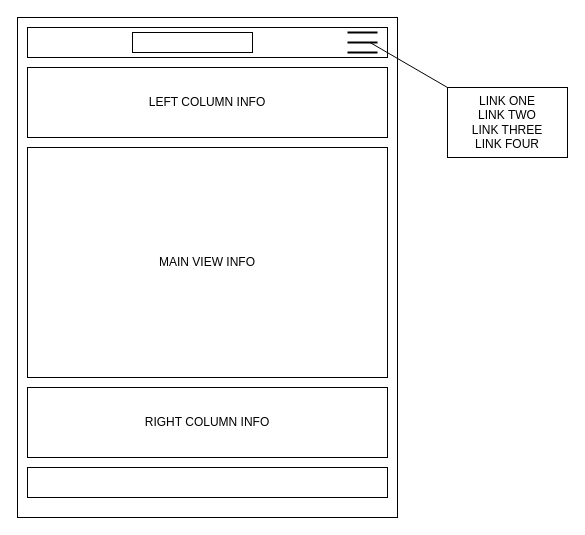
Some shapes in this 585 by 535 pixel diagram are drawn without their labels. The centre of each missing label's shape, as x and y in pixels:
FOOTER: the point at 207,482
HEADER: the point at 192,42
